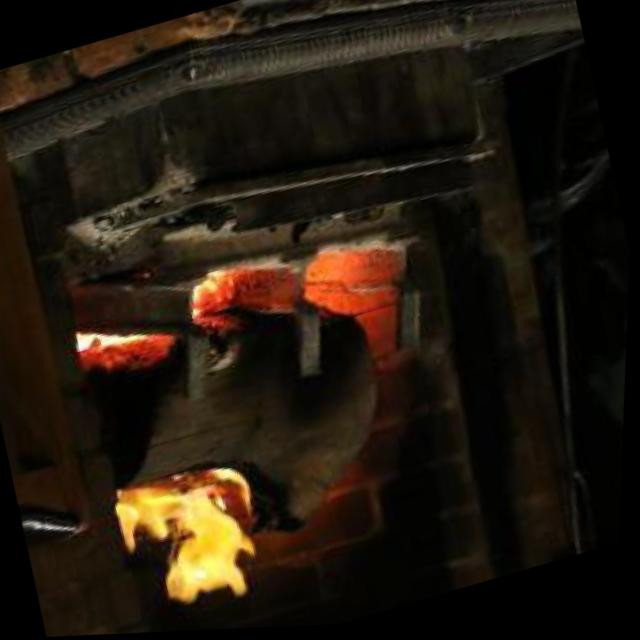Fire: (102, 440, 310, 634)
